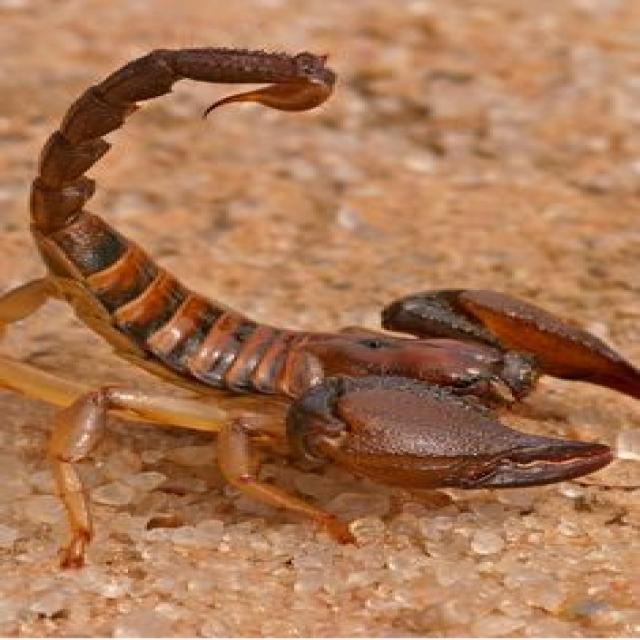Carnivorous: (0, 49, 640, 571)
